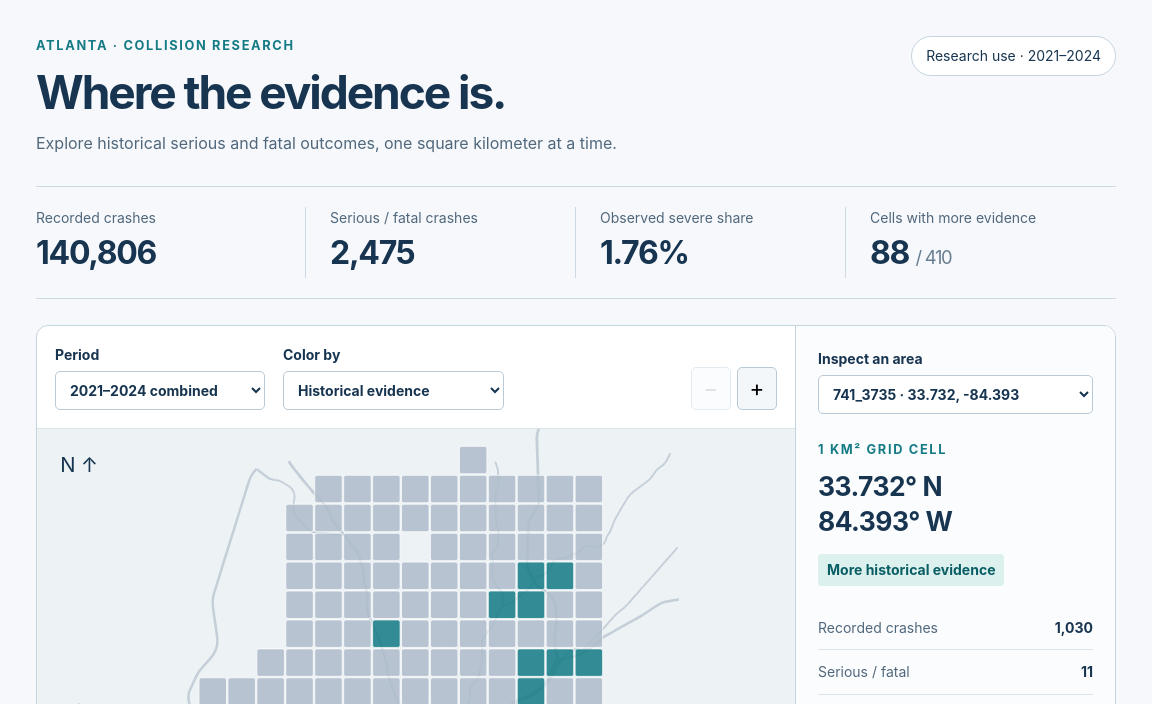
does not retain stale area statistics when a selected cell has no records in the new year
Select "727_3734 · 33.726, -84.545" in the dropdown labelled "Inspect an area" at [956, 394], box [818,375,1093,414]
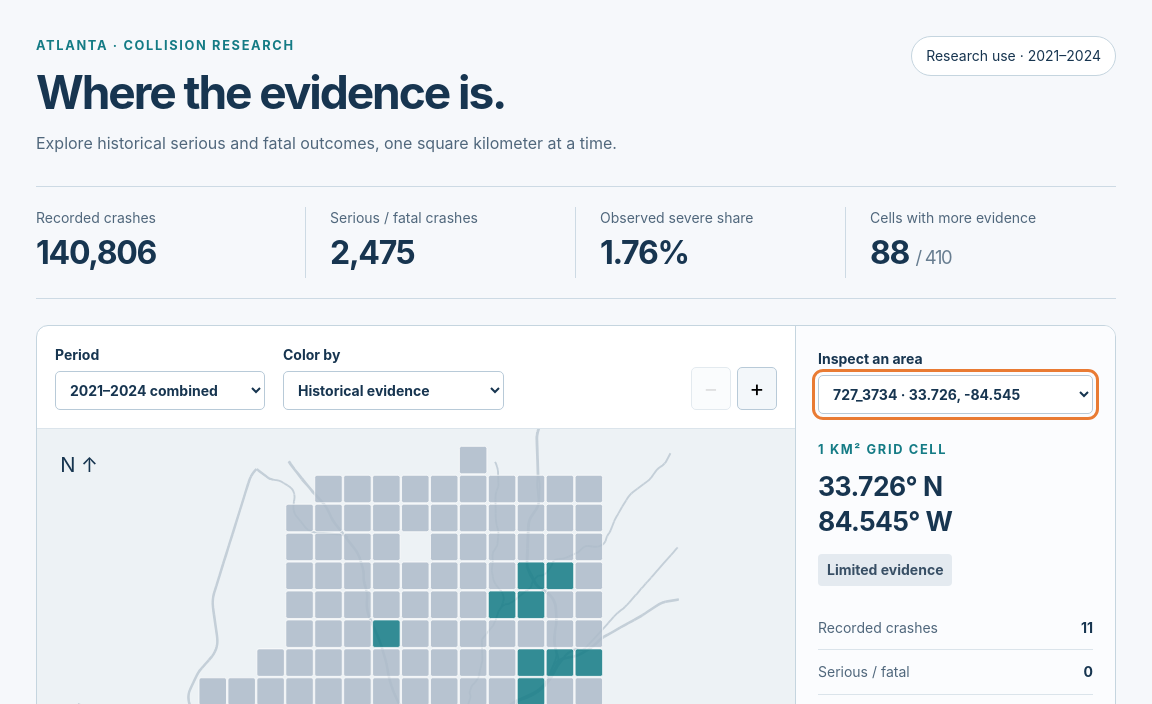
Select "2024" in the dropdown labelled "Period" at [160, 390], box [55,371,265,410]
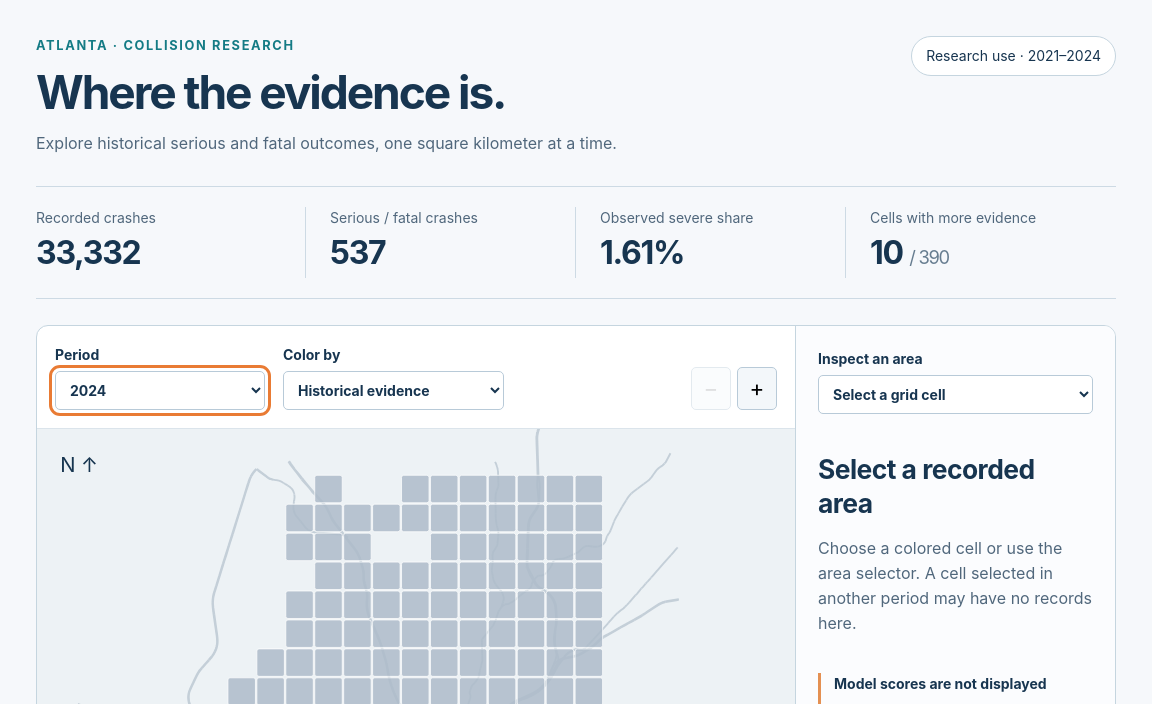
Now the heading "Select a recorded area" is shown, box [818,453,1034,519]
